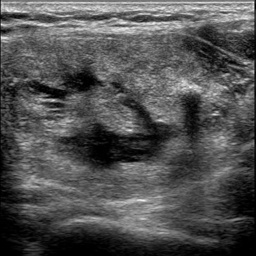mass: (14, 39, 242, 197)
